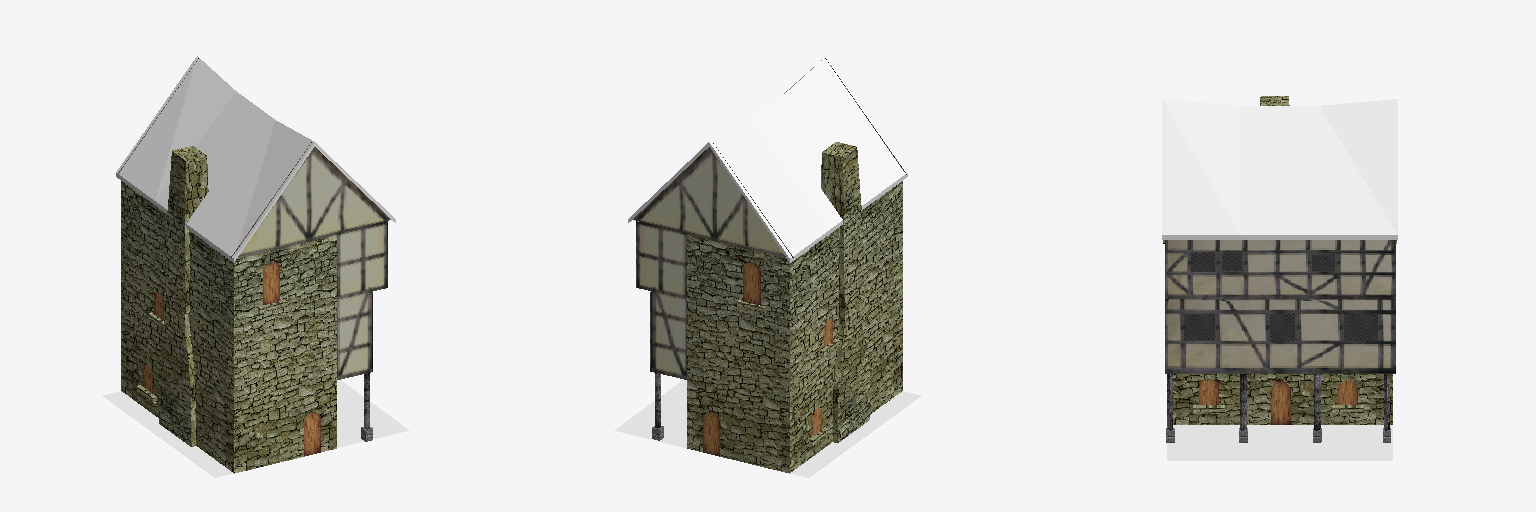
The picture shows the model from 3 angles: view 1: azimuth 30°, elevation 25°; view 2: azimuth 150°, elevation 25°; view 3: azimuth 270°, elevation 25°; orthographic projection.
Parts seen in each view (by area): view 1: Box466, Box7229, Mesh65, Box467, Plane102, Box465, Box463; view 2: Box466, Box7229, Mesh53, Box467, Plane102, Box462, Box461; view 3: Box7229, Mesh64, Box466, Plane102, Box459.
Boxes of the visible parts, box(x1,y1,x2,y2) form: Box466: box(121, 181, 336, 473); Box7229: box(116, 56, 395, 262); Mesh65: box(231, 142, 390, 379); Box467: box(159, 146, 208, 446); Plane102: box(103, 380, 409, 477); Box465: box(304, 412, 320, 455); Box463: box(263, 262, 279, 304); Box466: box(687, 181, 902, 473); Box7229: box(628, 56, 907, 262); Mesh53: box(633, 143, 793, 379); Box467: box(821, 142, 869, 442); Plane102: box(614, 380, 920, 477); Box462: box(743, 262, 760, 305); Box461: box(703, 412, 719, 456); Box7229: box(1162, 99, 1397, 239); Mesh64: box(1165, 240, 1395, 373); Box466: box(1173, 374, 1392, 424); Plane102: box(1167, 425, 1392, 460); Box459: box(1271, 381, 1290, 424).
Bounding box in the file's own units: 76 × 117 × 79.5.
Materials: 8 (5 with a texture image).